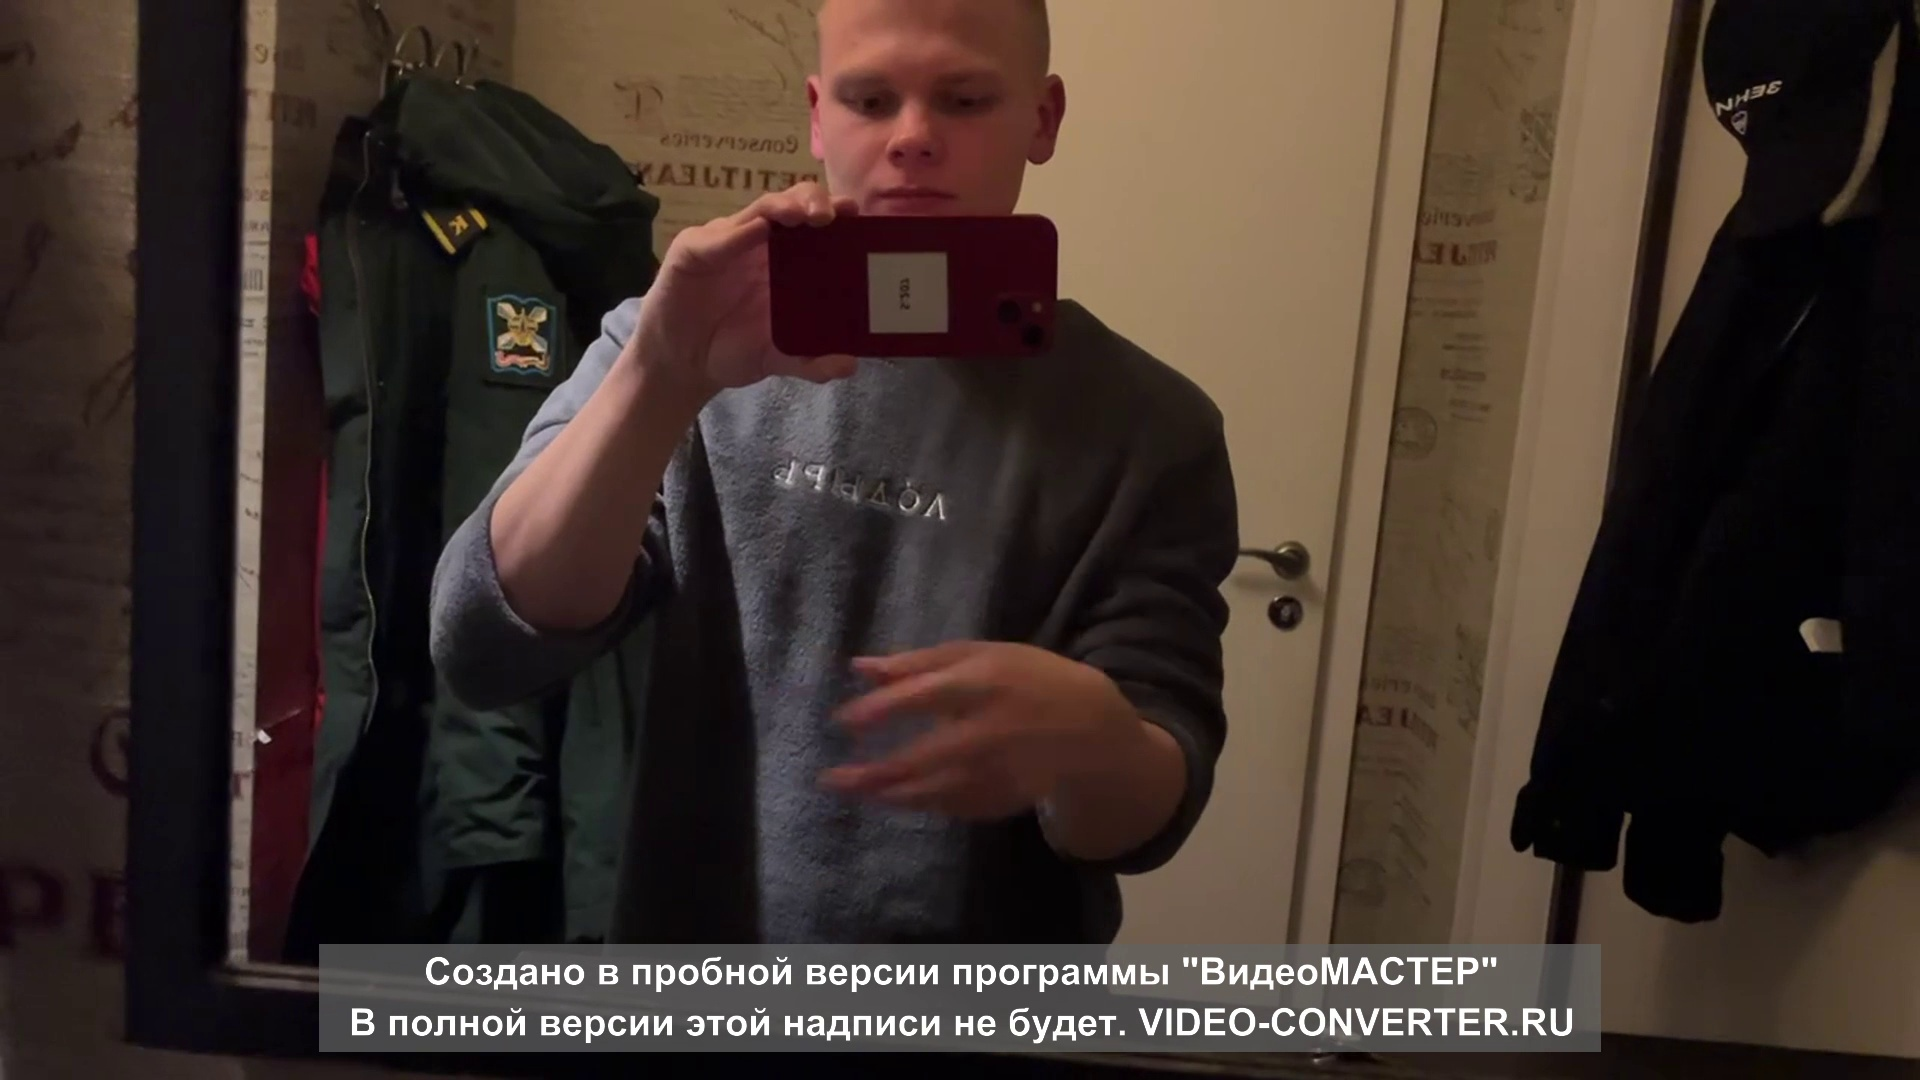Кисть: (822, 637, 1089, 824)
